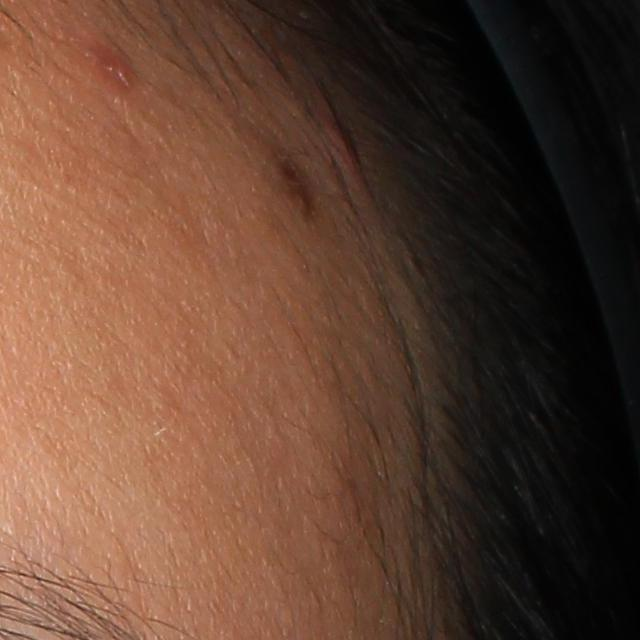papule: (80, 42, 139, 91), (328, 119, 372, 174)
